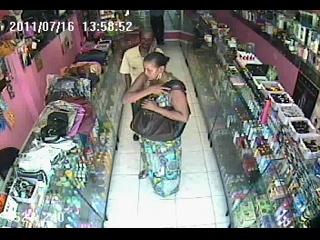Normal: (122, 52, 191, 198), (118, 28, 164, 90), (148, 10, 166, 46), (75, 50, 108, 65)
